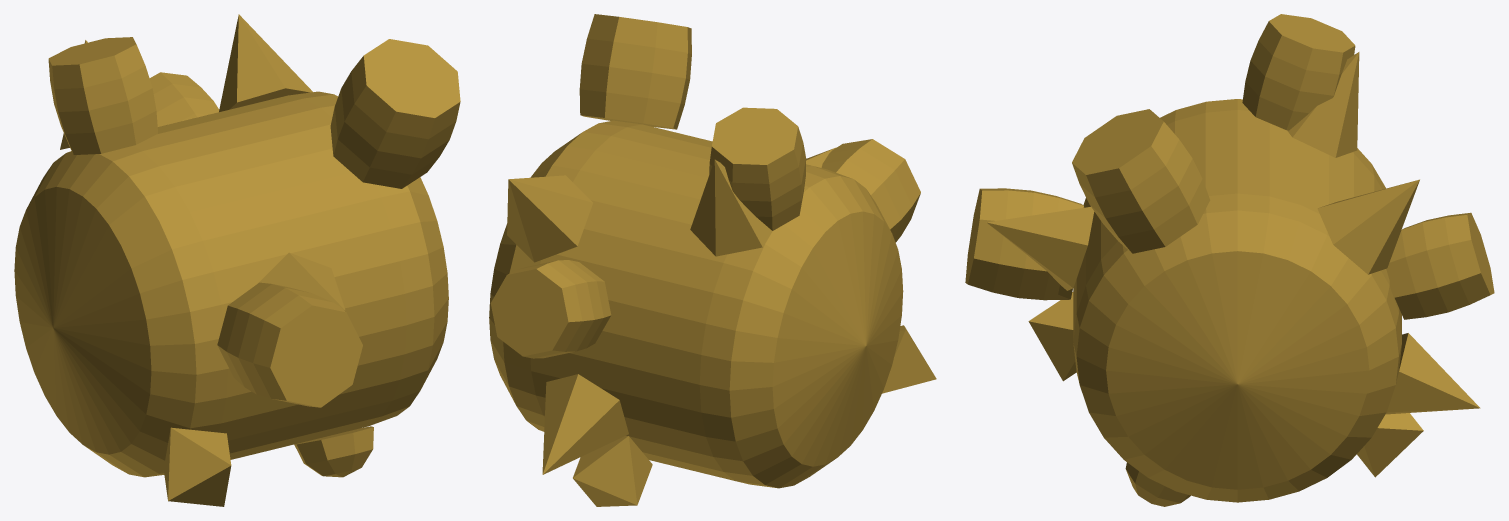
File: exp2_ovoid_cylinder_asym_04.glb
The picture shows the model from 3 angles, left to right: view 1: azimuth 30°, elevation 25°; view 2: azimuth 150°, elevation 25°; view 3: azimuth 270°, elevation 25°; orthographic projection. The views are drawn at different scales.
Visible parts, largest first — view 1: exp2_ovoid_cylinder_asym_04; view 2: exp2_ovoid_cylinder_asym_04; view 3: exp2_ovoid_cylinder_asym_04.
Part boxes in pixels (x1,y1,x2,y2): exp2_ovoid_cylinder_asym_04: (14, 14, 460, 506); exp2_ovoid_cylinder_asym_04: (489, 14, 936, 506); exp2_ovoid_cylinder_asym_04: (965, 14, 1494, 506).
Bounding box in the file's own units: 1.57 × 1.78 × 2.09.
